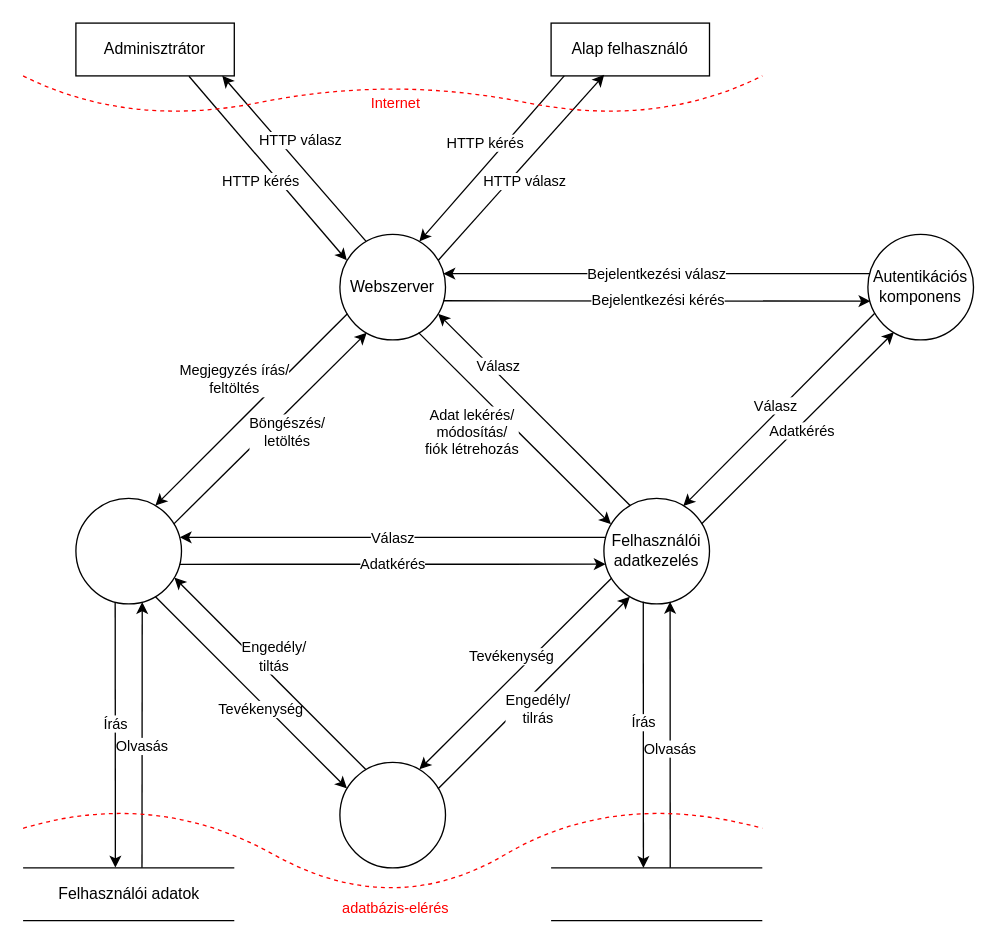
Some shapes in this 997 by 944 pixel diagram are drawn without their labels. The box of each missing label's shape, as (x1, y1, x2, y2) in pixels:
CAFF adatok: (550, 867, 762, 921)
CAFF-kezelő: (75, 497, 182, 604)
Hozzáférés-védelmi komponens: (339, 761, 446, 868)
